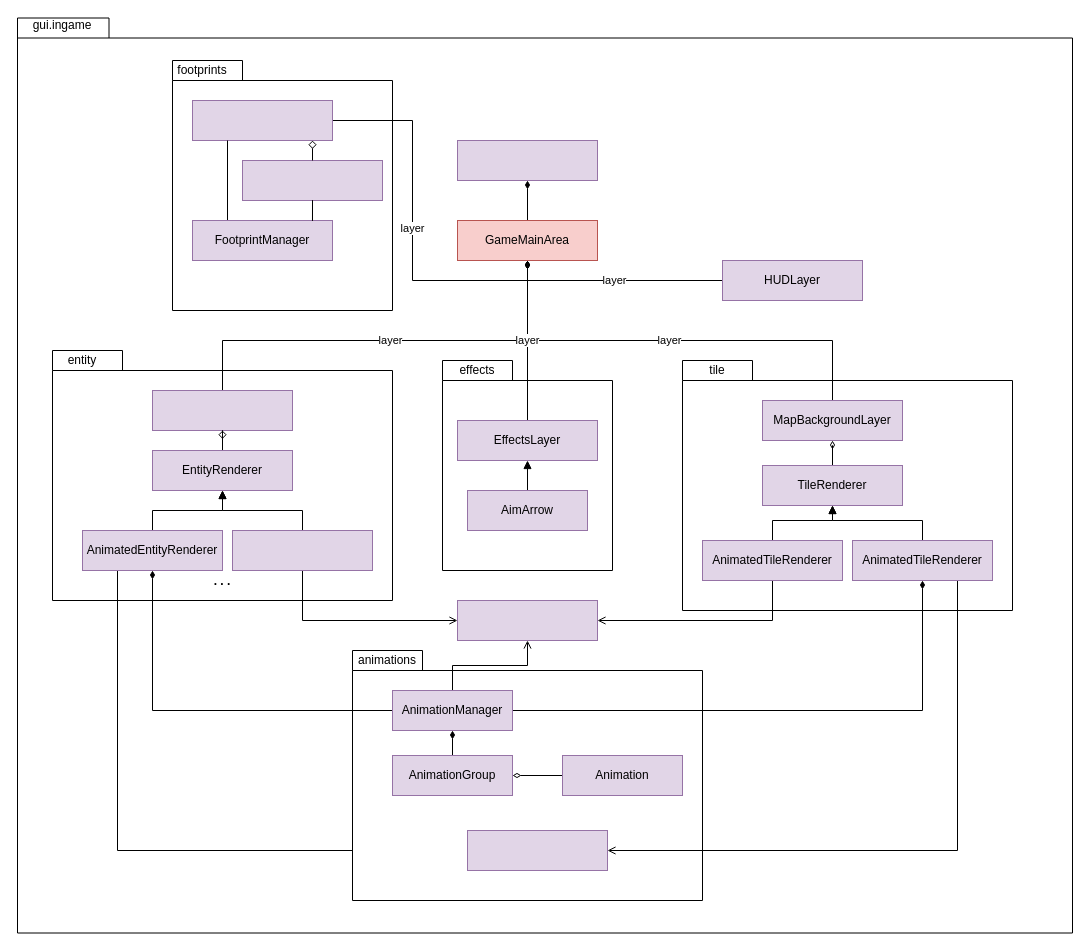
The diagram is 1090 pixels wide and 950 high, and some of its shapes have lost their labels. Here are the shapes that lost their labels. From the top down, the box of each, then its label:
(192, 100, 332, 140): FootprintsLayer
(242, 160, 382, 200): FootprintsRenderer
(456, 140, 598, 180): GameView
(152, 390, 292, 430): EntitiesLayer
(232, 530, 372, 570): SpriteRenderer
(456, 600, 598, 640): ImageCache
(466, 830, 608, 870): AnimationCache
